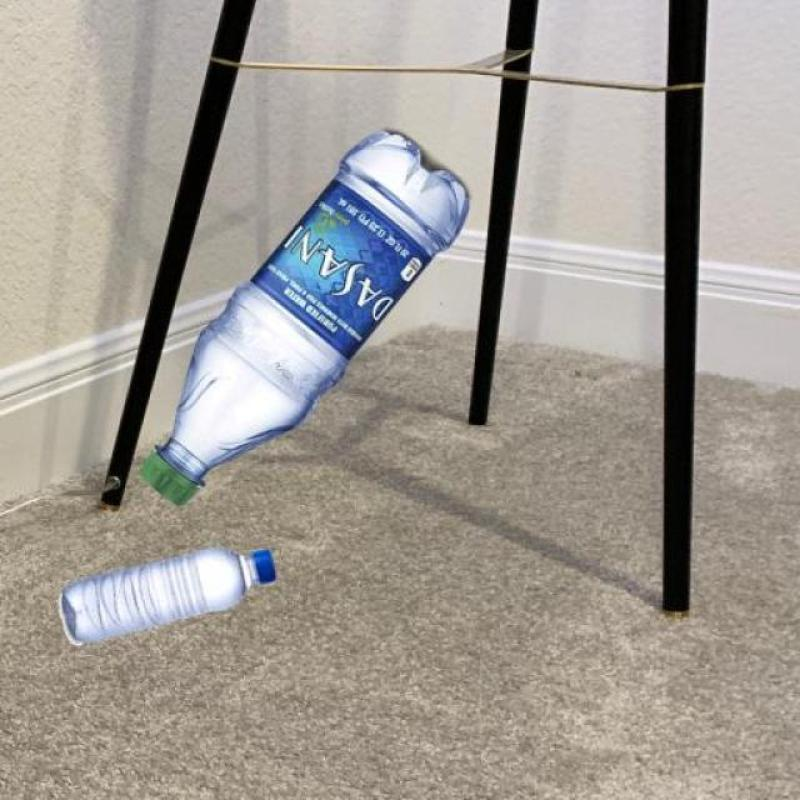botella: (135, 126, 470, 506), (58, 540, 278, 644)
